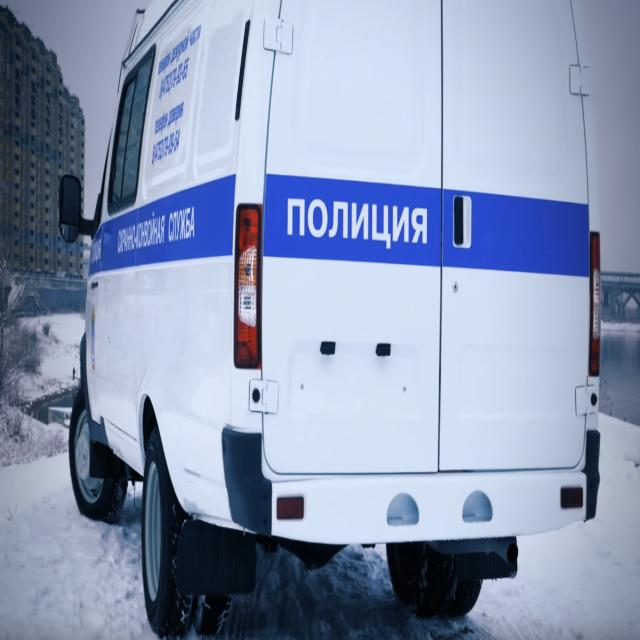police car: (54, 1, 608, 640)
